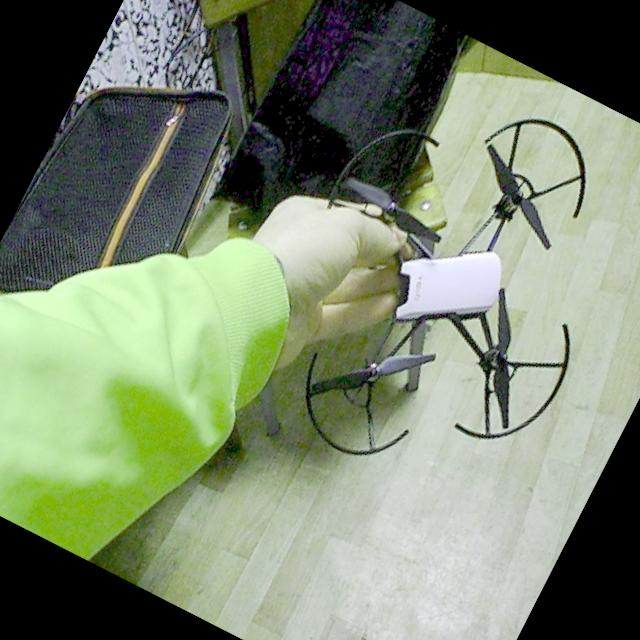drone: (223, 45, 640, 541)
